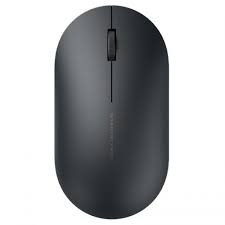mouse: (53, 2, 171, 225)
